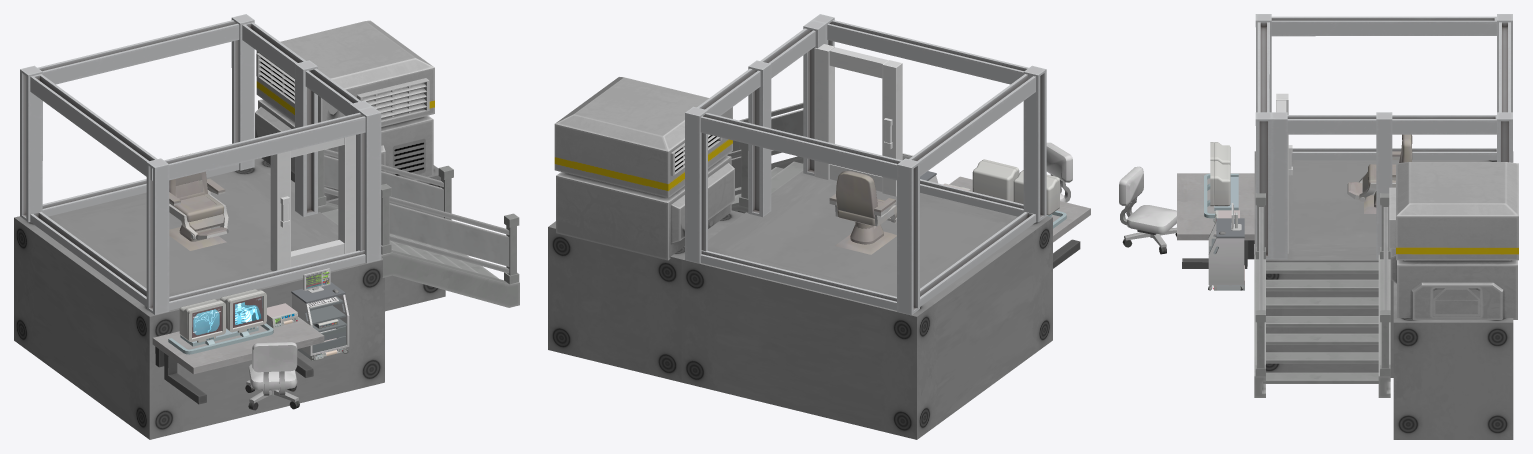
Rendered from Pfb_ObservationDeck_Temp__2.fbx.
The picture shows the model from 3 angles, left to right: view 1: azimuth 30°, elevation 25°; view 2: azimuth 150°, elevation 25°; view 3: azimuth 270°, elevation 25°; orthographic projection. The views are drawn at different scales.
Parts seen in each view (by area): view 1: MAT_ScalableMesh_01, Mat_SteelFrame_01, Mat_Ventilation_Soda, Mat_Stairs_Soda, Mat_TS_Metall 2, Mat_Table_01, Color, Mat_Tile_Color_07 2, Color_02, Mat_Chair_01, Monitors, Mat_Tile_Color_03; view 2: MAT_ScalableMesh_01, Mat_SteelFrame_01, Mat_Ventilation_Soda, Mat_TS_Metall 2, Mat_Tile_Color_07 2, Mat_Stairs_Soda, Color, Mat_Table_01, Mat_Chair_01; view 3: MAT_ScalableMesh_01, Mat_SteelFrame_01, Mat_Ventilation_Soda, Mat_Stairs_Soda, Mat_Table_01, Mat_Chair_01, Color_02, Color, Mat_Tile_Color_07 2, Mat_TS_Metall 2.
Part boxes in pixels (left/top/right/bottom): MAT_ScalableMesh_01: left=14, top=158, right=445, bottom=439; Mat_SteelFrame_01: left=20, top=14, right=381, bottom=314; Mat_Ventilation_Soda: left=255, top=20, right=434, bottom=200; Mat_Stairs_Soda: left=318, top=149, right=519, bottom=307; Mat_TS_Metall 2: left=270, top=135, right=355, bottom=271; Mat_Table_01: left=152, top=317, right=324, bottom=404; Color: left=168, top=289, right=342, bottom=360; Mat_Tile_Color_07 2: left=169, top=153, right=226, bottom=250; Color_02: left=291, top=268, right=349, bottom=360; Mat_Chair_01: left=245, top=342, right=299, bottom=410; Monitors: left=192, top=270, right=337, bottom=355; Mat_Tile_Color_03: left=169, top=185, right=228, bottom=239; MAT_ScalableMesh_01: left=548, top=171, right=1052, bottom=439; Mat_SteelFrame_01: left=685, top=14, right=1046, bottom=315; Mat_Ventilation_Soda: left=554, top=77, right=734, bottom=260; Mat_TS_Metall 2: left=814, top=44, right=902, bottom=196; Mat_Tile_Color_07 2: left=829, top=170, right=896, bottom=254; Mat_Stairs_Soda: left=727, top=102, right=803, bottom=213; Color: left=943, top=159, right=1066, bottom=228; Mat_Table_01: left=949, top=176, right=1090, bottom=268; Mat_Chair_01: left=1046, top=142, right=1072, bottom=202; MAT_ScalableMesh_01: left=1254, top=151, right=1513, bottom=439; Mat_SteelFrame_01: left=1255, top=14, right=1512, bottom=259; Mat_Ventilation_Soda: left=1389, top=162, right=1518, bottom=319; Mat_Stairs_Soda: left=1254, top=193, right=1390, bottom=397; Mat_Table_01: left=1177, top=173, right=1254, bottom=268; Mat_Chair_01: left=1119, top=166, right=1176, bottom=254; Color_02: left=1208, top=203, right=1244, bottom=290; Color: left=1204, top=142, right=1244, bottom=290; Mat_Tile_Color_07 2: left=1348, top=134, right=1412, bottom=213; Mat_TS_Metall 2: left=1276, top=93, right=1288, bottom=253.
Bounding box in the file's own units: 6.29 × 4.39 × 6.18.
Materials: 13 (13 with a texture image).
